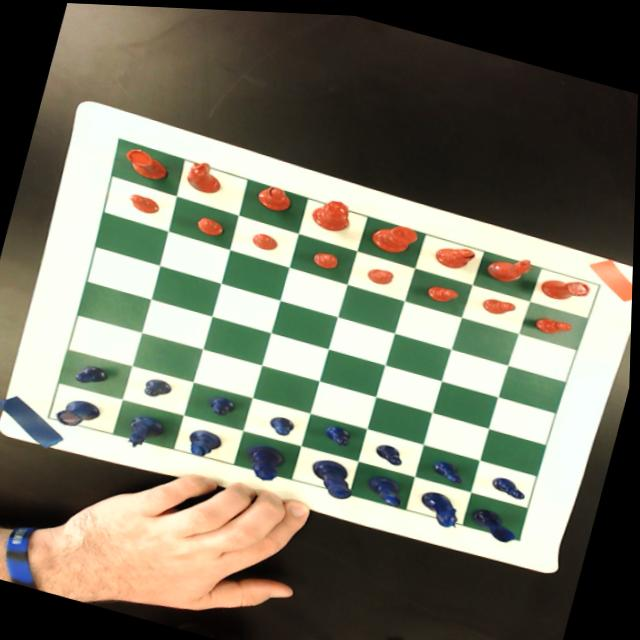B: (364, 469, 408, 505), (186, 424, 225, 459)
K: (307, 453, 359, 497)
N: (418, 485, 467, 528), (121, 409, 169, 452)
P: (72, 359, 113, 389), (430, 453, 469, 482), (491, 469, 530, 495), (204, 390, 239, 417), (374, 437, 408, 463), (143, 373, 175, 400), (268, 410, 298, 435), (324, 420, 353, 444)
Q: (243, 438, 290, 481)
R: (470, 501, 524, 541), (55, 394, 104, 433)
b: (431, 236, 477, 268), (252, 179, 295, 211)
k: (368, 215, 420, 255)
n: (484, 243, 539, 285), (181, 156, 228, 196)
p: (533, 309, 576, 334), (481, 290, 519, 314), (424, 278, 461, 302), (126, 191, 162, 215), (194, 212, 227, 237), (310, 245, 342, 268), (249, 227, 281, 250), (366, 262, 396, 284)
q: (309, 191, 354, 231)
r: (119, 143, 173, 182), (538, 266, 593, 303)
